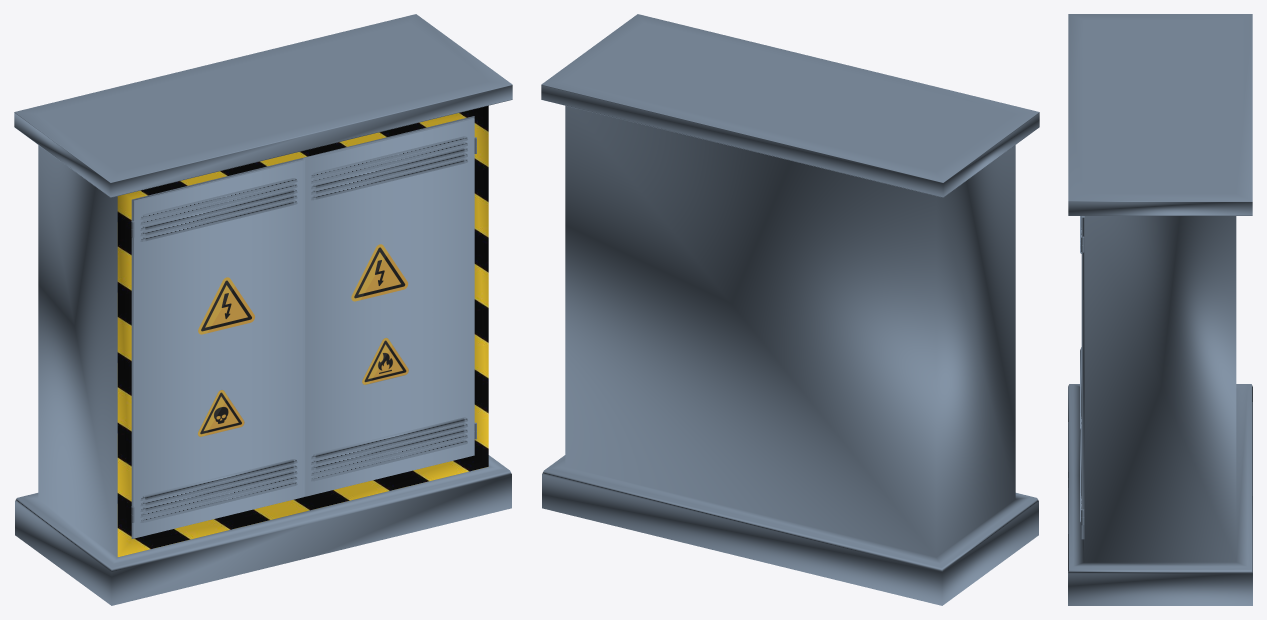
Rendered from ElectricPanel.glb.
The picture shows the model from 3 angles, left to right: view 1: azimuth 30°, elevation 25°; view 2: azimuth 150°, elevation 25°; view 3: azimuth 270°, elevation 25°; orthographic projection. The views are drawn at different scales.
Visible parts, largest first — view 1: ElectricBox_006_Material #2_0, Plane.001, Plane, Plane.003, Plane.002; view 2: ElectricBox_006_Material #2_0; view 3: ElectricBox_006_Material #2_0.
Part boxes in pixels (box(x1,y1,x2,y2)): ElectricBox_006_Material #2_0: box(14, 14, 512, 605); Plane.001: box(198, 277, 254, 334); Plane: box(351, 244, 408, 301); Plane.003: box(362, 338, 408, 384); Plane.002: box(198, 390, 244, 436); ElectricBox_006_Material #2_0: box(541, 14, 1039, 605); ElectricBox_006_Material #2_0: box(1068, 14, 1252, 605).
Bounding box in the file's own units: 3.6 × 3.62 × 1.5.
Materials: 3 (2 with a texture image).
